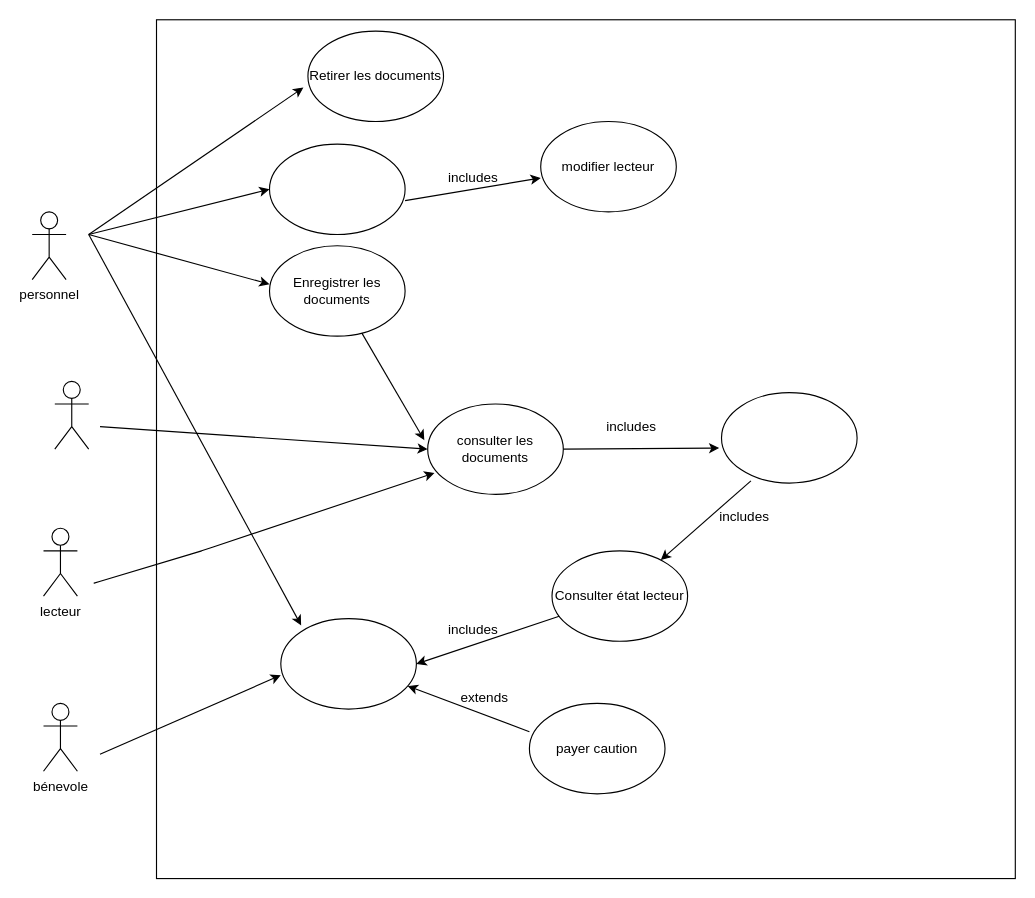
Some shapes in this 1035 by 898 pixel diagram are drawn without their labels. Here are the shapes that lost their labels. From the top down, the centre of each, then its label:
At (336,188): "Enregistrer les lecteurs".
At (71,414): "usager".
At (788,437): "rechercher le document".
At (348,663): "Enregistrer les emprunts".
